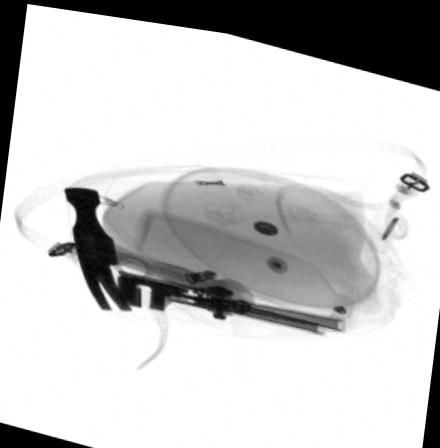Hammer: (64, 183, 343, 322)
Pliers: (118, 266, 345, 326)
